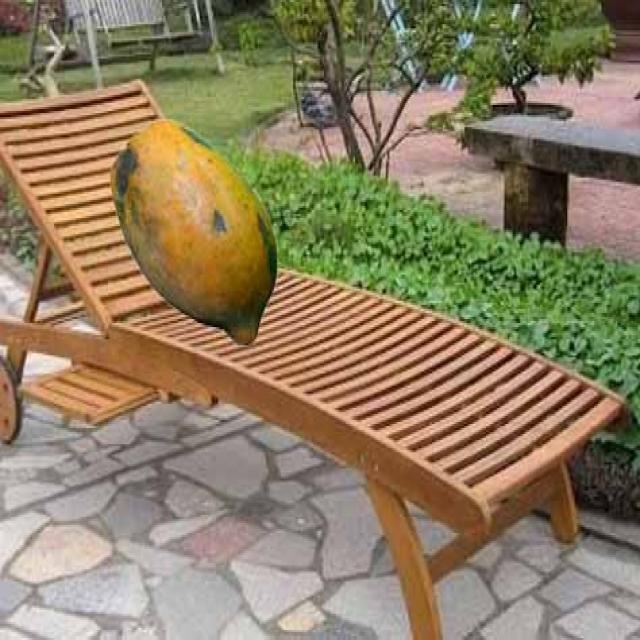Pepaya rippen: (113, 113, 281, 345)
